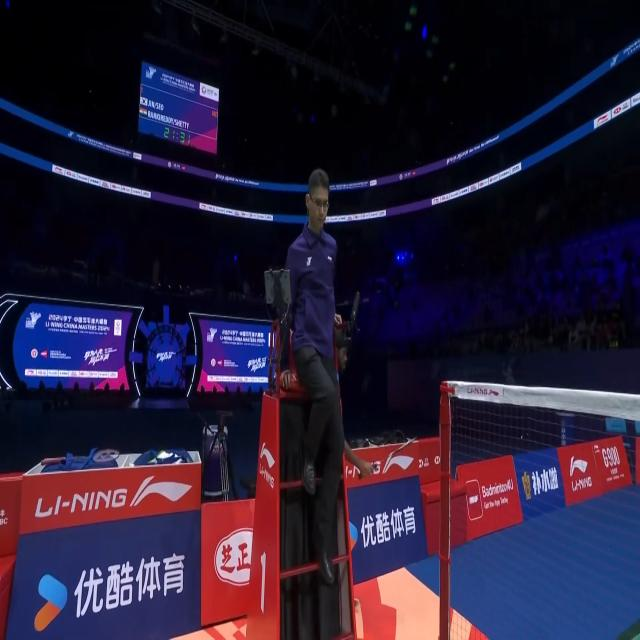referee: (286, 165, 348, 578)
